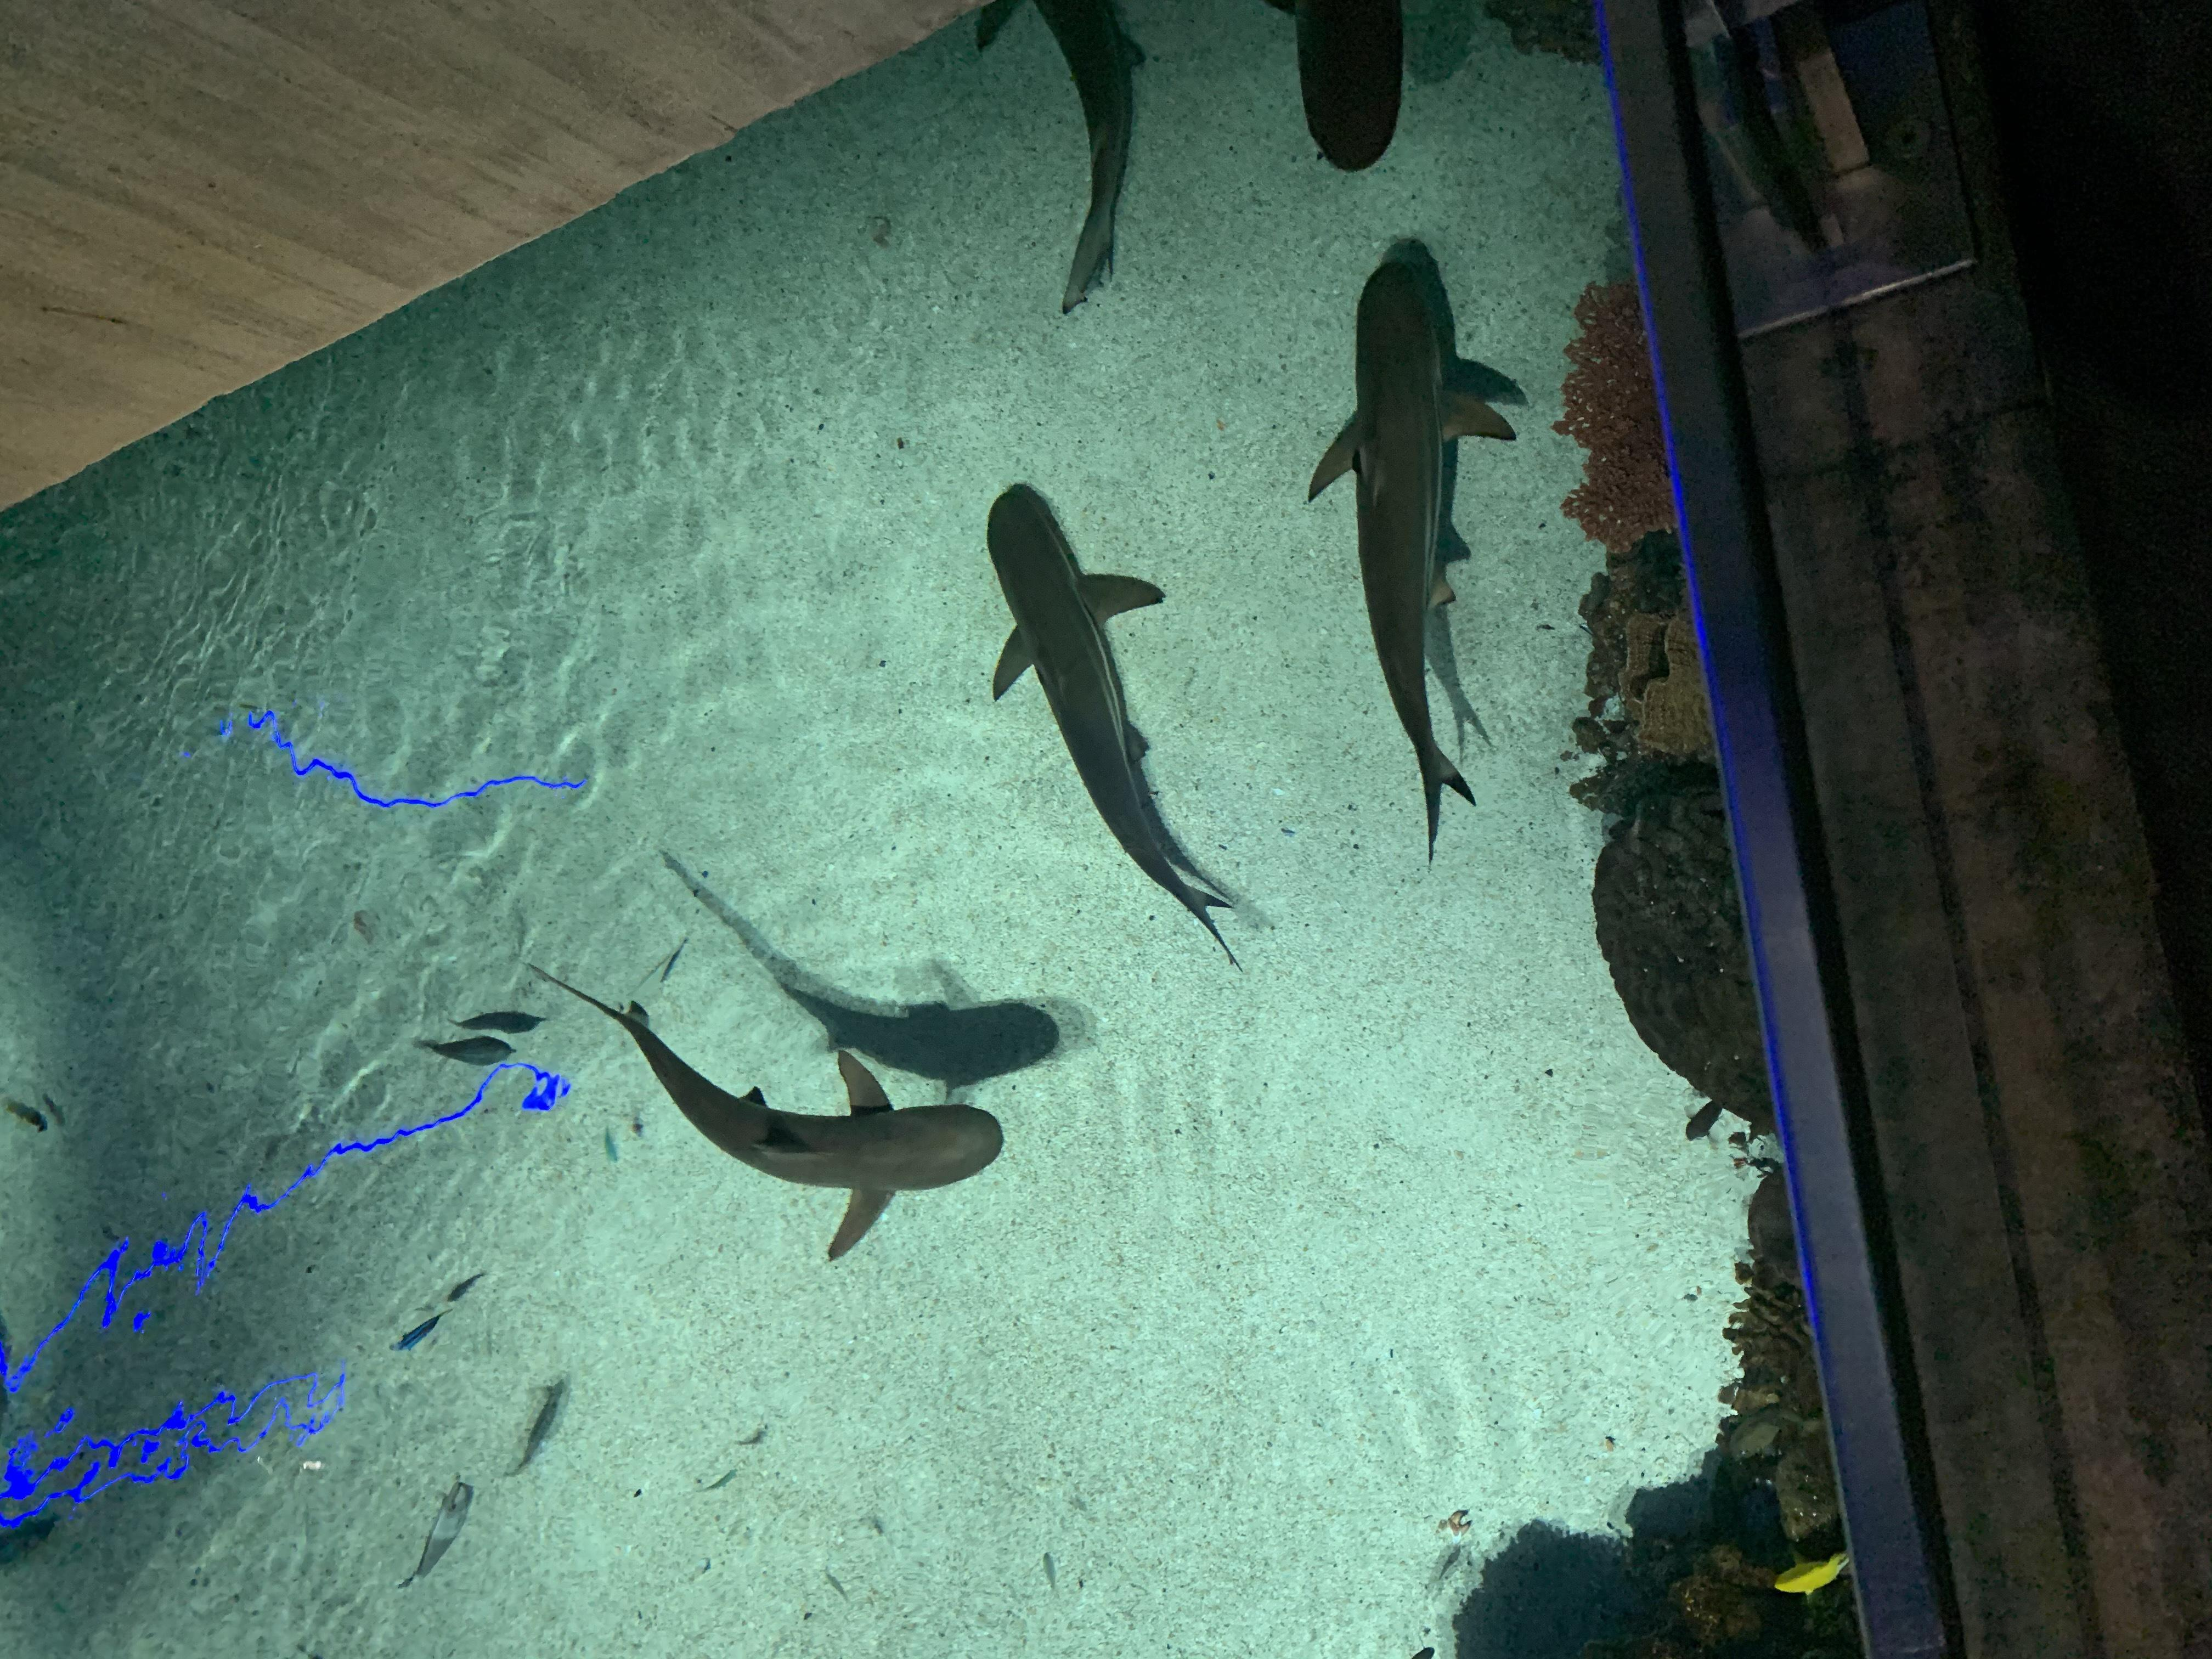fish: (403, 1474, 481, 1596), (459, 989, 550, 1045), (1762, 1543, 1850, 1600), (1679, 1085, 1733, 1158)
shark: (529, 963, 1022, 1260), (1306, 258, 1520, 856), (988, 482, 1232, 969), (971, 0, 1165, 315), (1272, 0, 1419, 169)
